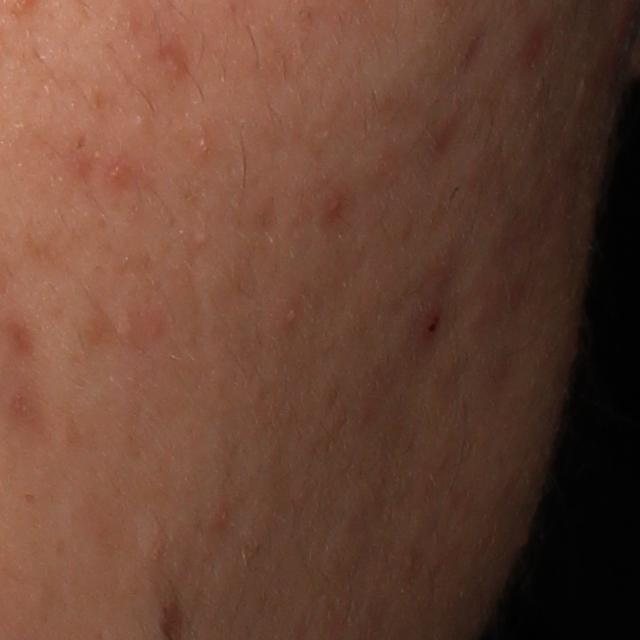comedo: (133, 111, 152, 130), (191, 229, 211, 246)
papule: (416, 309, 444, 344), (105, 162, 132, 189), (324, 192, 349, 220)
